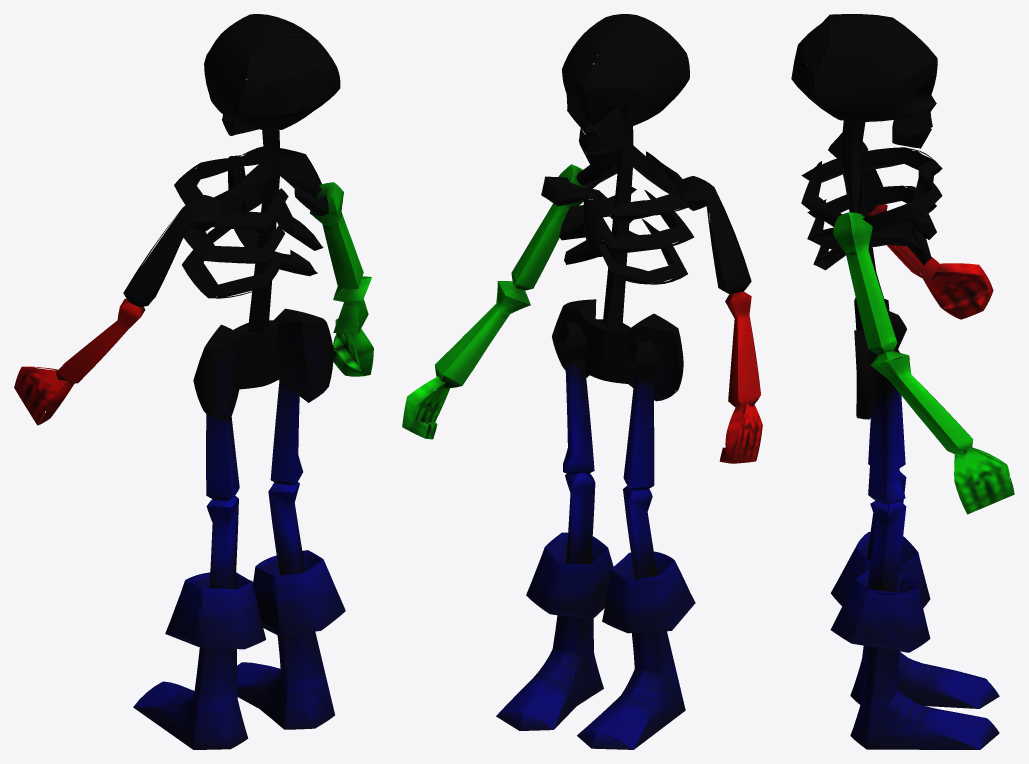
File: skeleton.glb
3 views of the same model, side by side, from view 1: azimuth 30°, elevation 25°; view 2: azimuth 150°, elevation 25°; view 3: azimuth 270°, elevation 25° (orthographic). The views are drawn at different scales.
Visible parts, largest first — view 1: skeleton; view 2: skeleton; view 3: skeleton.
Part boxes in pixels (x1,y1,x2,y2): skeleton: (14, 14, 373, 749); skeleton: (402, 14, 762, 749); skeleton: (791, 14, 1014, 749).
Bounding box in the file's own units: 0.9563 × 1.89 × 0.5483.
Materials: 1 (1 with a texture image).
